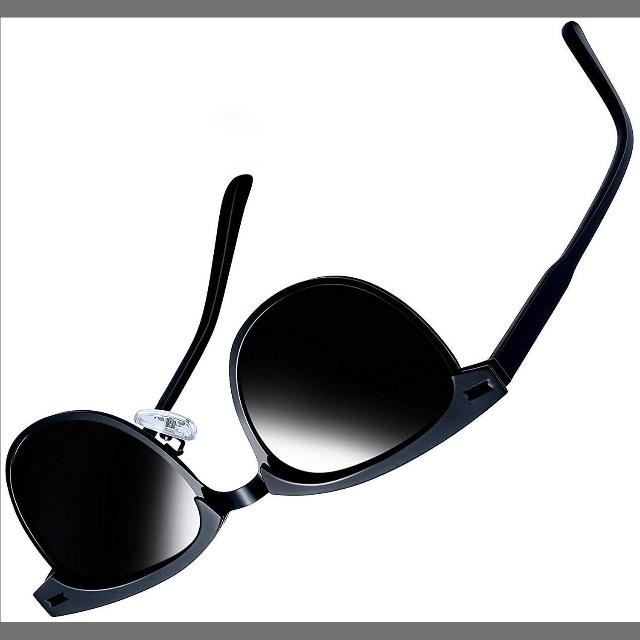Sunglasses: (0, 19, 636, 612)
